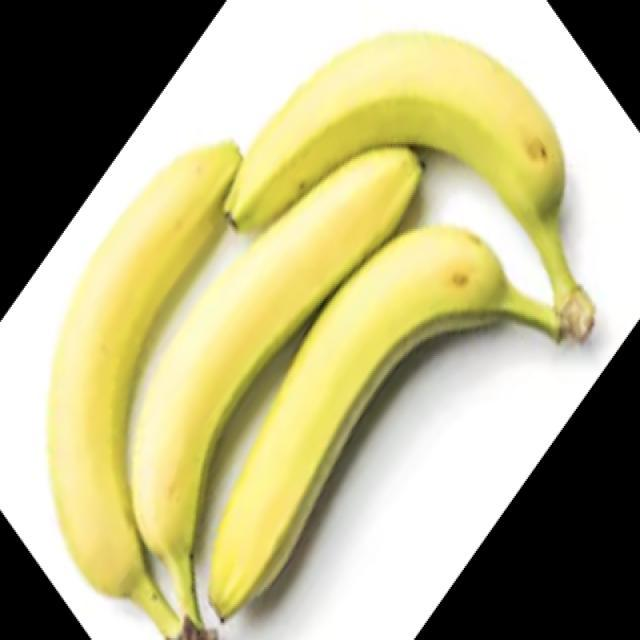Banana: (126, 143, 424, 636), (206, 223, 564, 623), (222, 28, 596, 345), (45, 137, 243, 637)
